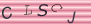C: (1, 6, 13, 20), (51, 3, 63, 14)
J: (65, 10, 78, 24)
L: (23, 4, 34, 16)
S: (36, 3, 49, 17)
